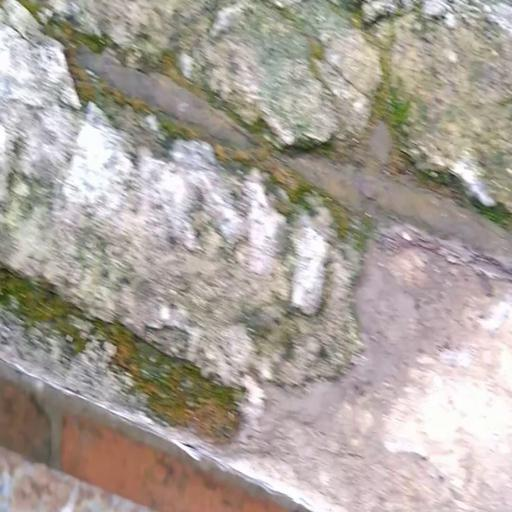spalling: (23, 0, 512, 460)
